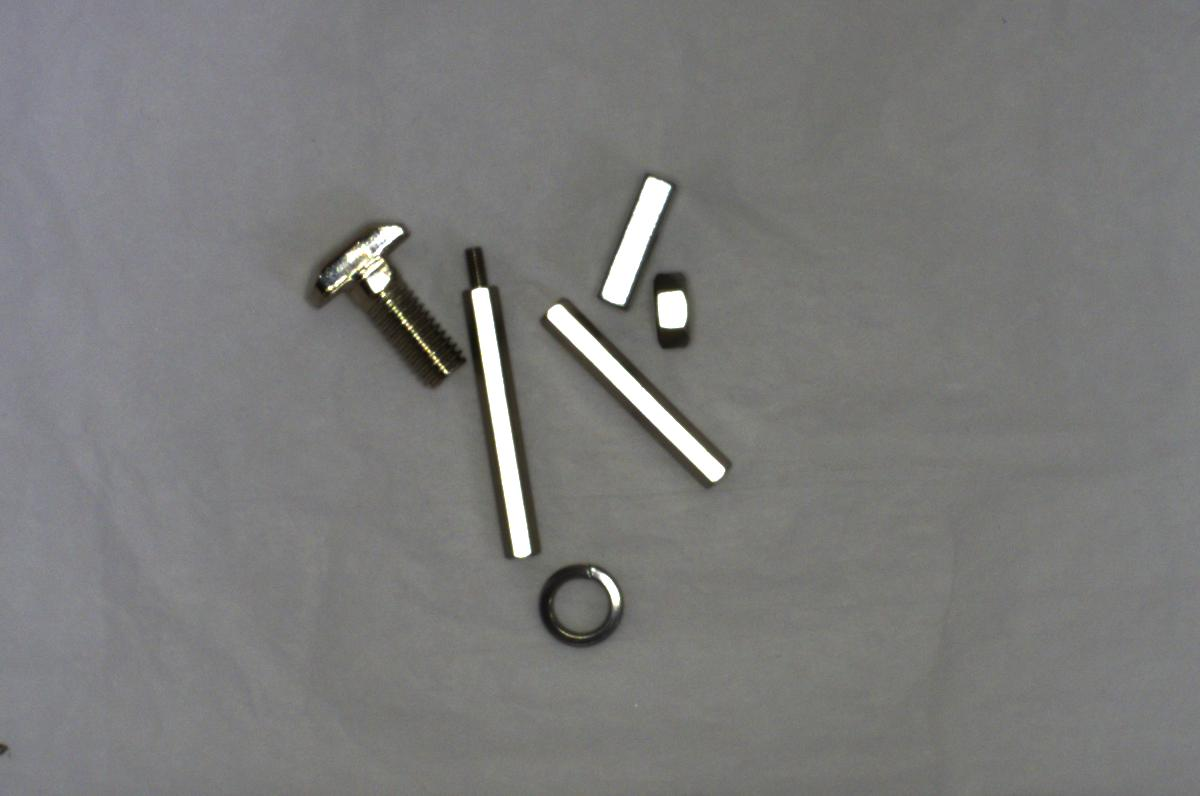Double hexagonal column: (530, 292, 732, 489)
Hexagon nut: (641, 266, 697, 347)
Hexagonal steel column: (461, 233, 538, 567)
Rectangular nut: (590, 167, 668, 307)
Spring washer: (530, 549, 630, 652)
T-shaped screw: (302, 214, 465, 390)
